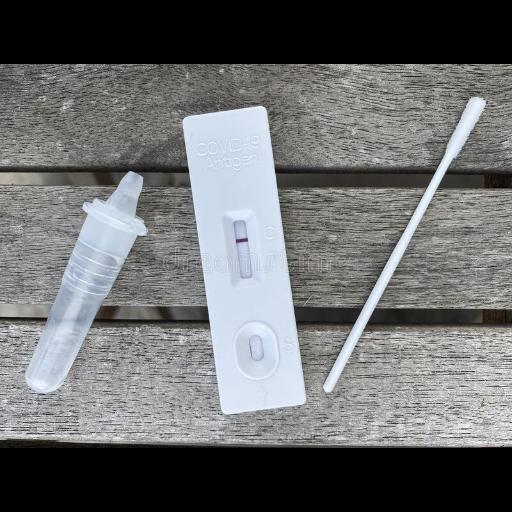Neg: (182, 104, 309, 416)
